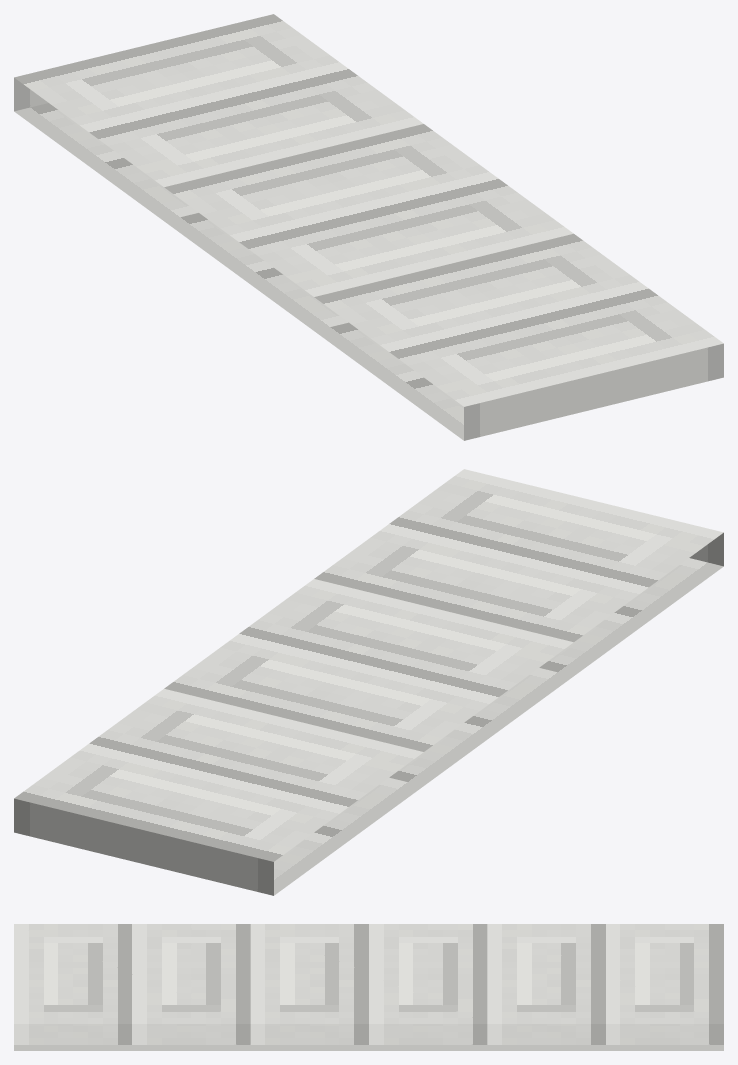
Rendered from white_run_3.obj.
3 renders of one model, top to bottom at view 1: azimuth 30°, elevation 25°; view 2: azimuth 150°, elevation 25°; view 3: azimuth 270°, elevation 25°, orthographic. The views are drawn at different scales.
Parts seen in each view (by area): view 1: run; view 2: run; view 3: run.
Boxes of the visible parts, x1,y1,x2,y2 form: run: [14, 14, 723, 440]; run: [14, 469, 723, 895]; run: [14, 924, 723, 1050].
Bounding box in the file's own units: 1 × 0.125 × 3.
